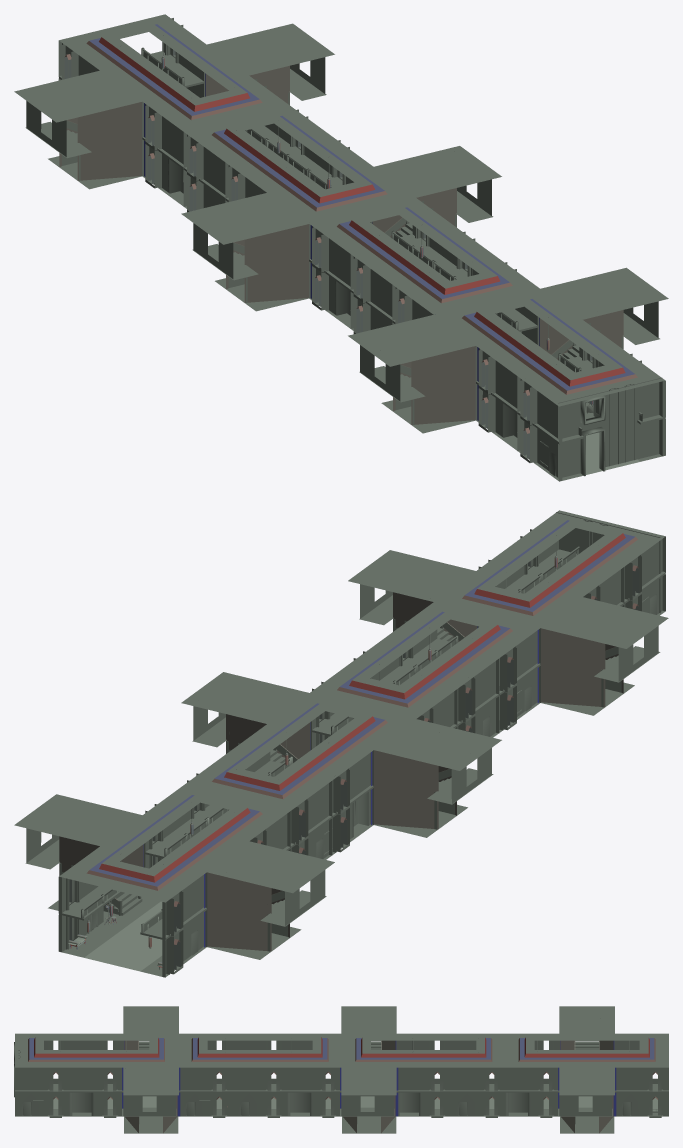
File: AdrienMansion_Lobby.fbx
3 views of the same model, one above another, from view 1: azimuth 30°, elevation 25°; view 2: azimuth 150°, elevation 25°; view 3: azimuth 270°, elevation 25° (orthographic). The views are drawn at different scales.
Parts seen in each view (by area): view 1: AdrienMansion_Lobby; view 2: AdrienMansion_Lobby; view 3: AdrienMansion_Lobby.
Part boxes in pixels (left/top/right/bottom): AdrienMansion_Lobby: left=14, top=14, right=668, bottom=481; AdrienMansion_Lobby: left=14, top=510, right=668, bottom=977; AdrienMansion_Lobby: left=14, top=1006, right=668, bottom=1133.
Bounding box in the file's own units: 19311 × 5610 × 60081.
